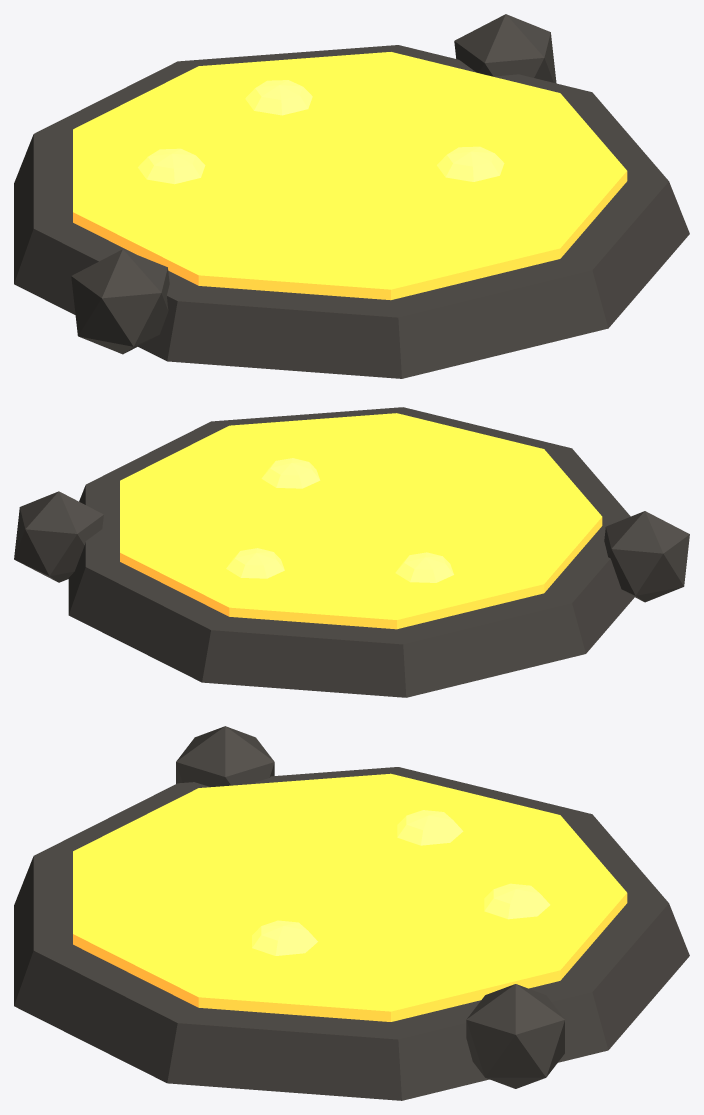
The model's file is lava-pool-lod1.glb.
The picture shows the model from 3 angles, top to bottom: view 1: azimuth 30°, elevation 25°; view 2: azimuth 150°, elevation 25°; view 3: azimuth 270°, elevation 25°; orthographic projection. The views are drawn at different scales.
Visible parts, largest first — view 1: lava-pool; view 2: lava-pool; view 3: lava-pool.
Boxes of the visible parts, x1,y1,x2,y2 form: lava-pool: (14,14,689,378); lava-pool: (14,407,689,697); lava-pool: (14,726,689,1100).
Bounding box in the file's own units: 1.23 × 0.2 × 1.16.
